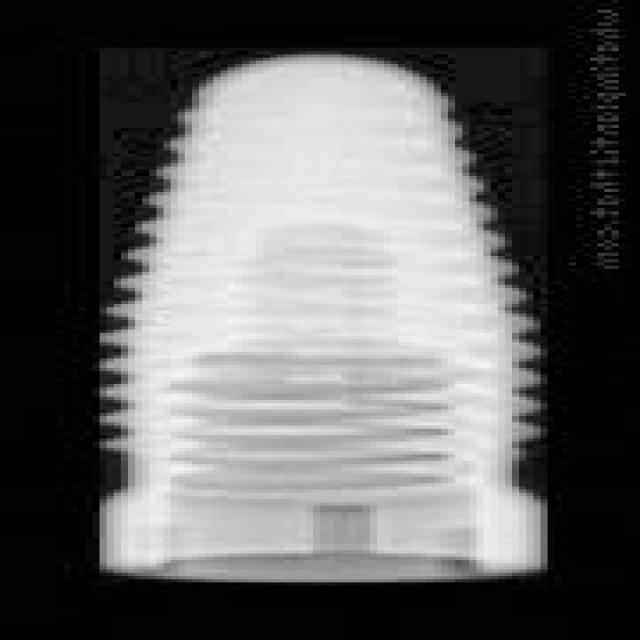Root canal obturation: (100, 48, 548, 582)
